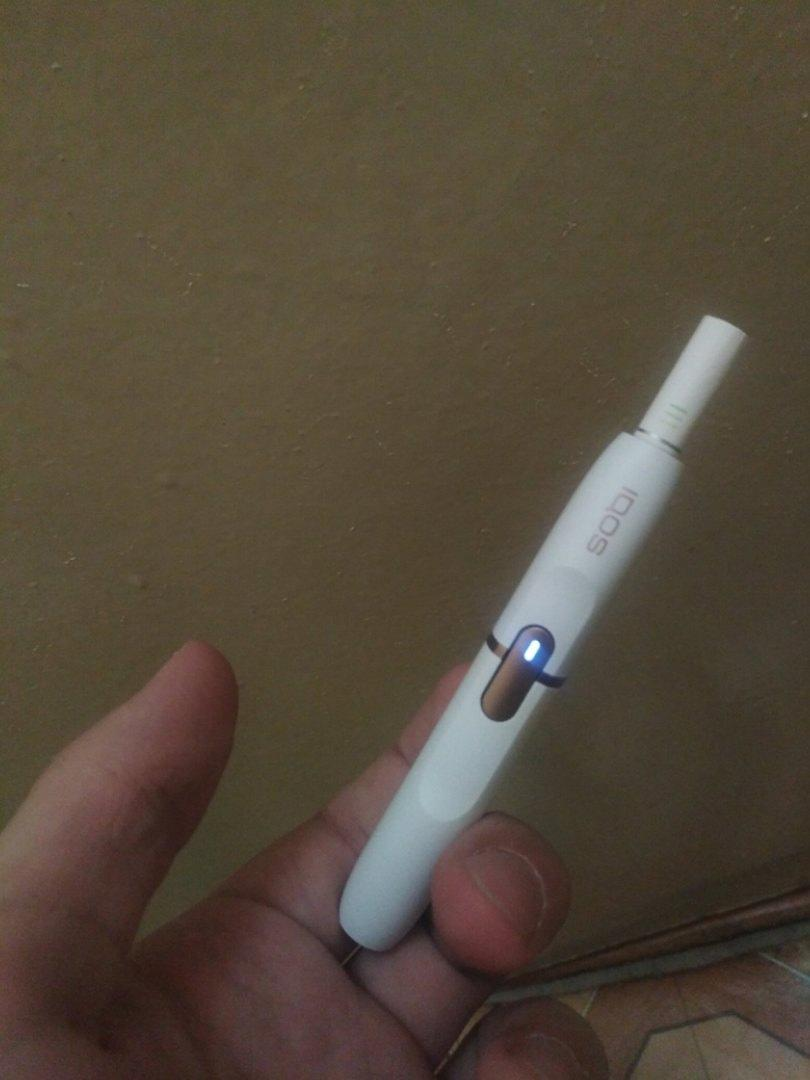iqos: (341, 318, 744, 948)
